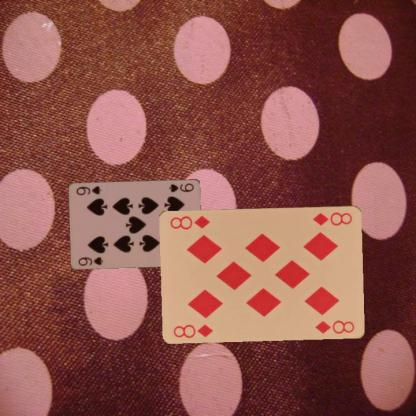8d: (310, 209, 353, 227), (171, 321, 214, 339)
9s: (76, 254, 104, 267), (166, 181, 195, 193)
